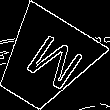M_SW: (10, 28, 80, 94)
